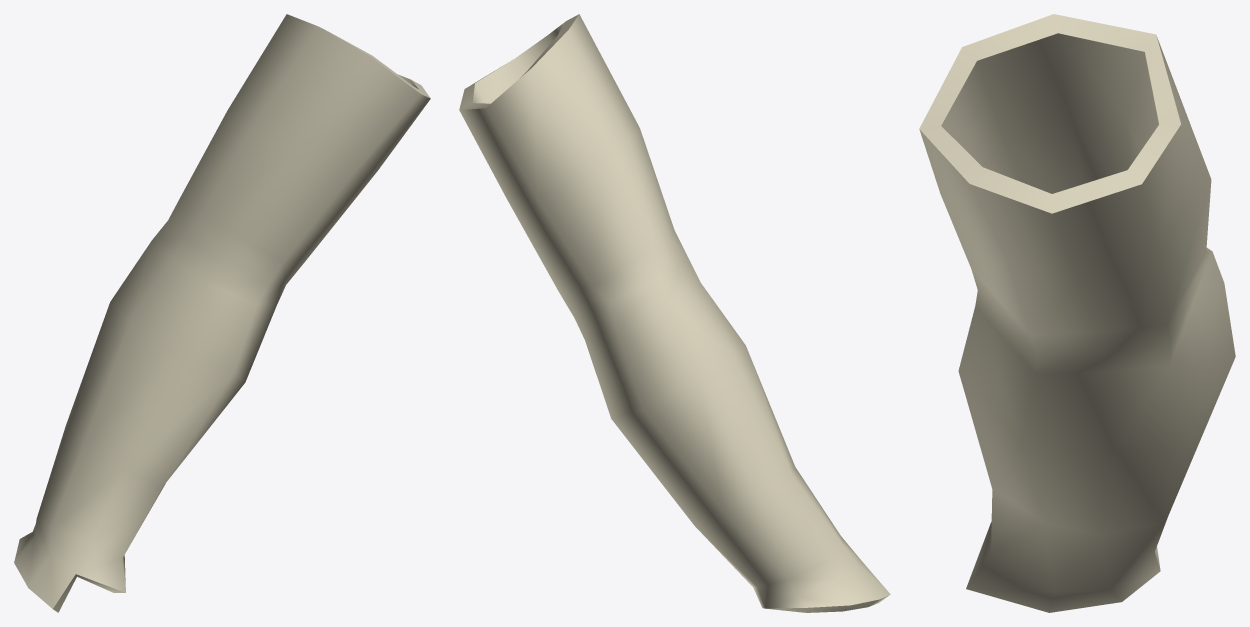
Rendered from Arm_1_R.fbx.
3 renders of one model, left to right at view 1: azimuth 30°, elevation 25°; view 2: azimuth 150°, elevation 25°; view 3: azimuth 270°, elevation 25°, orthographic. The views are drawn at different scales.
Visible parts, largest first — view 1: Arm_1_R; view 2: Arm_1_R; view 3: Arm_1_R.
Part boxes in pixels (x1,y1,x2,y2): Arm_1_R: (14,14,430,612); Arm_1_R: (459,14,890,612); Arm_1_R: (919,14,1235,612).
Size of the model in its own units: 37.35 by 45.1 by 17.1.
